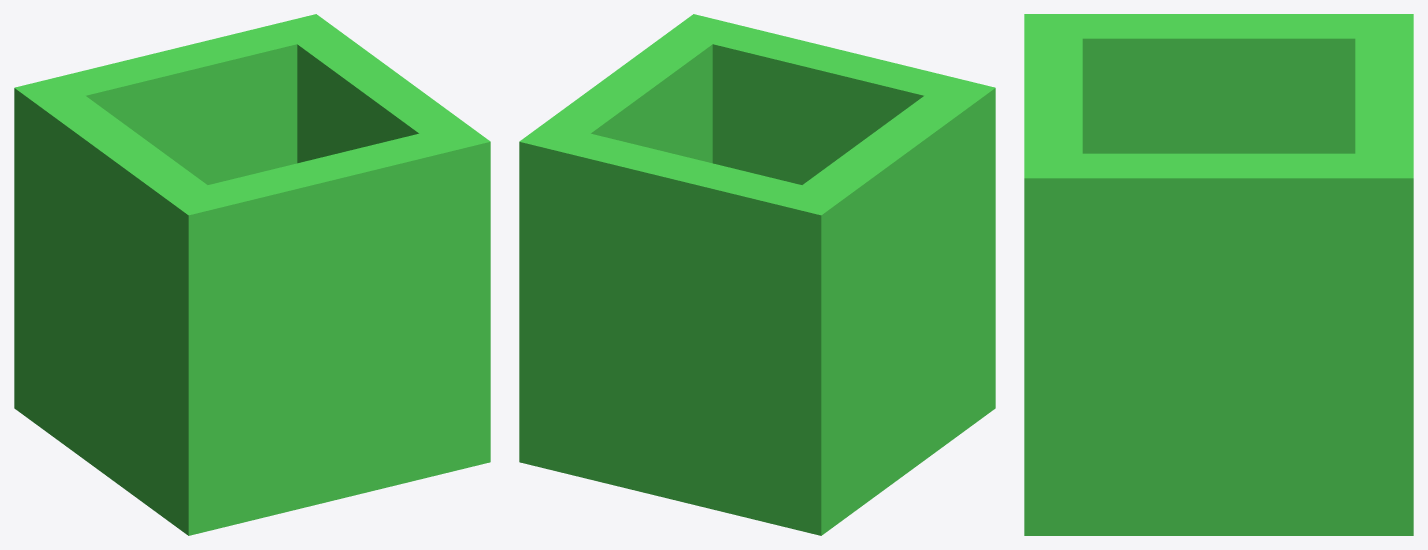
The model's file is FISI2.gltf.
3 views of the same model, side by side, from view 1: azimuth 30°, elevation 25°; view 2: azimuth 150°, elevation 25°; view 3: azimuth 270°, elevation 25° (orthographic). The views are drawn at different scales.
Visible parts, largest first — view 1: Plane; view 2: Plane; view 3: Plane.
Part boxes in pixels (left/top/right/bottom): Plane: left=14, top=14, right=490, bottom=535; Plane: left=519, top=14, right=995, bottom=535; Plane: left=1024, top=14, right=1413, bottom=535.
Bounding box in the file's own units: 2 × 2.03 × 2.
